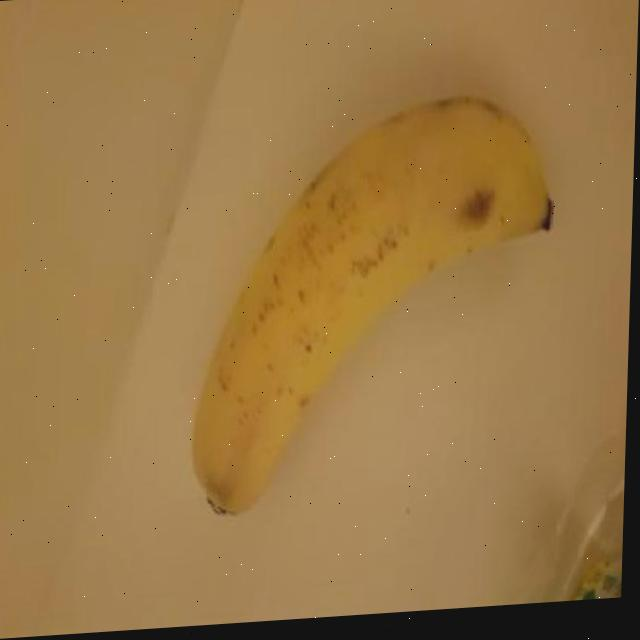banana: (172, 75, 567, 525)
